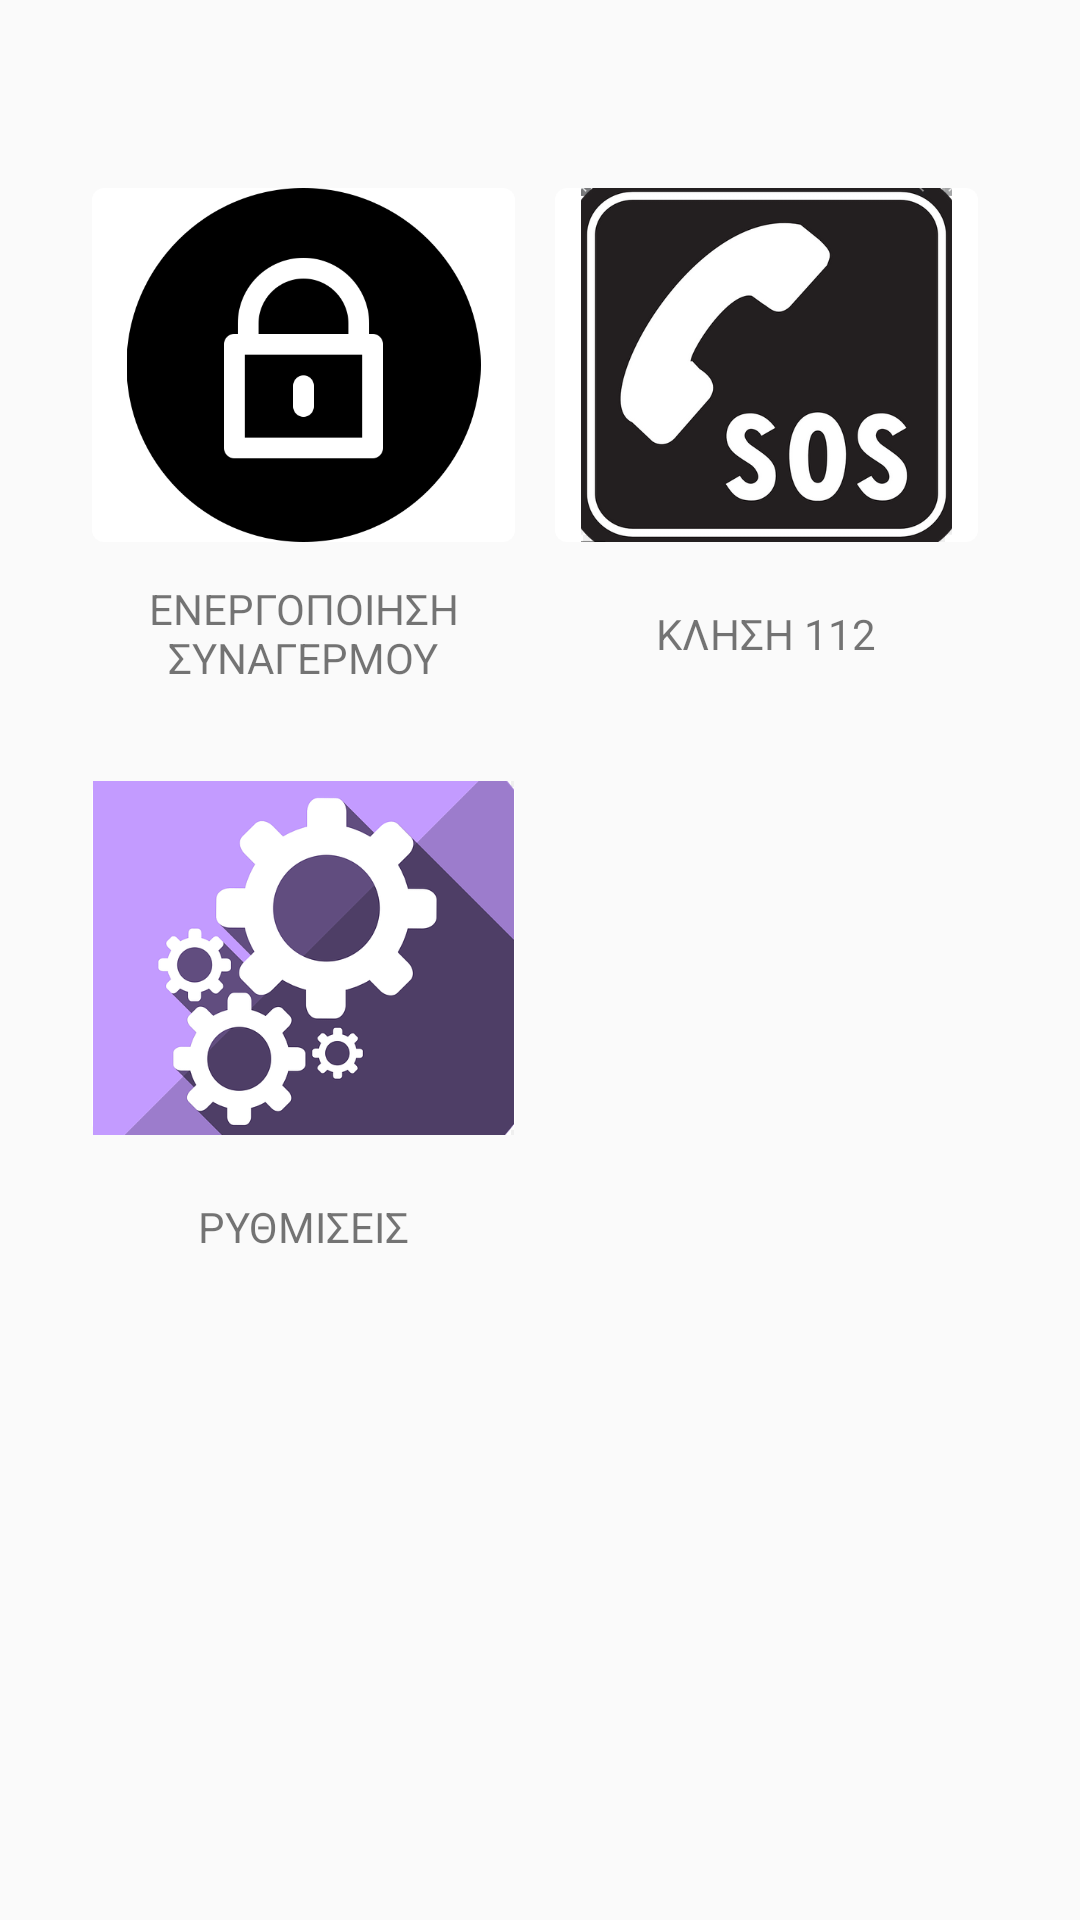

Named icons in this screenshot (1080 x 1920) and their centers, [x,y]:
lock: [304,365]
